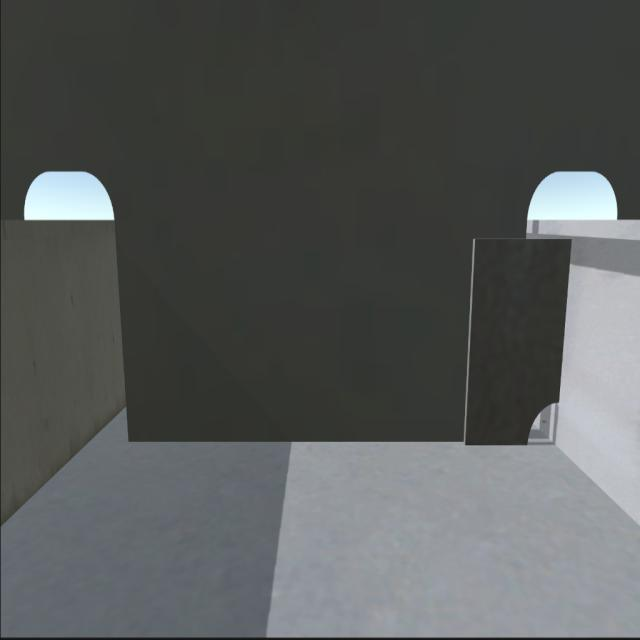fillet_hole: (519, 389, 565, 452)
fillet_yong_jeop_jang: (122, 429, 530, 454)
longi_yong_jeop_jang: (552, 234, 579, 408)
plate_CP01: (467, 232, 561, 447)
